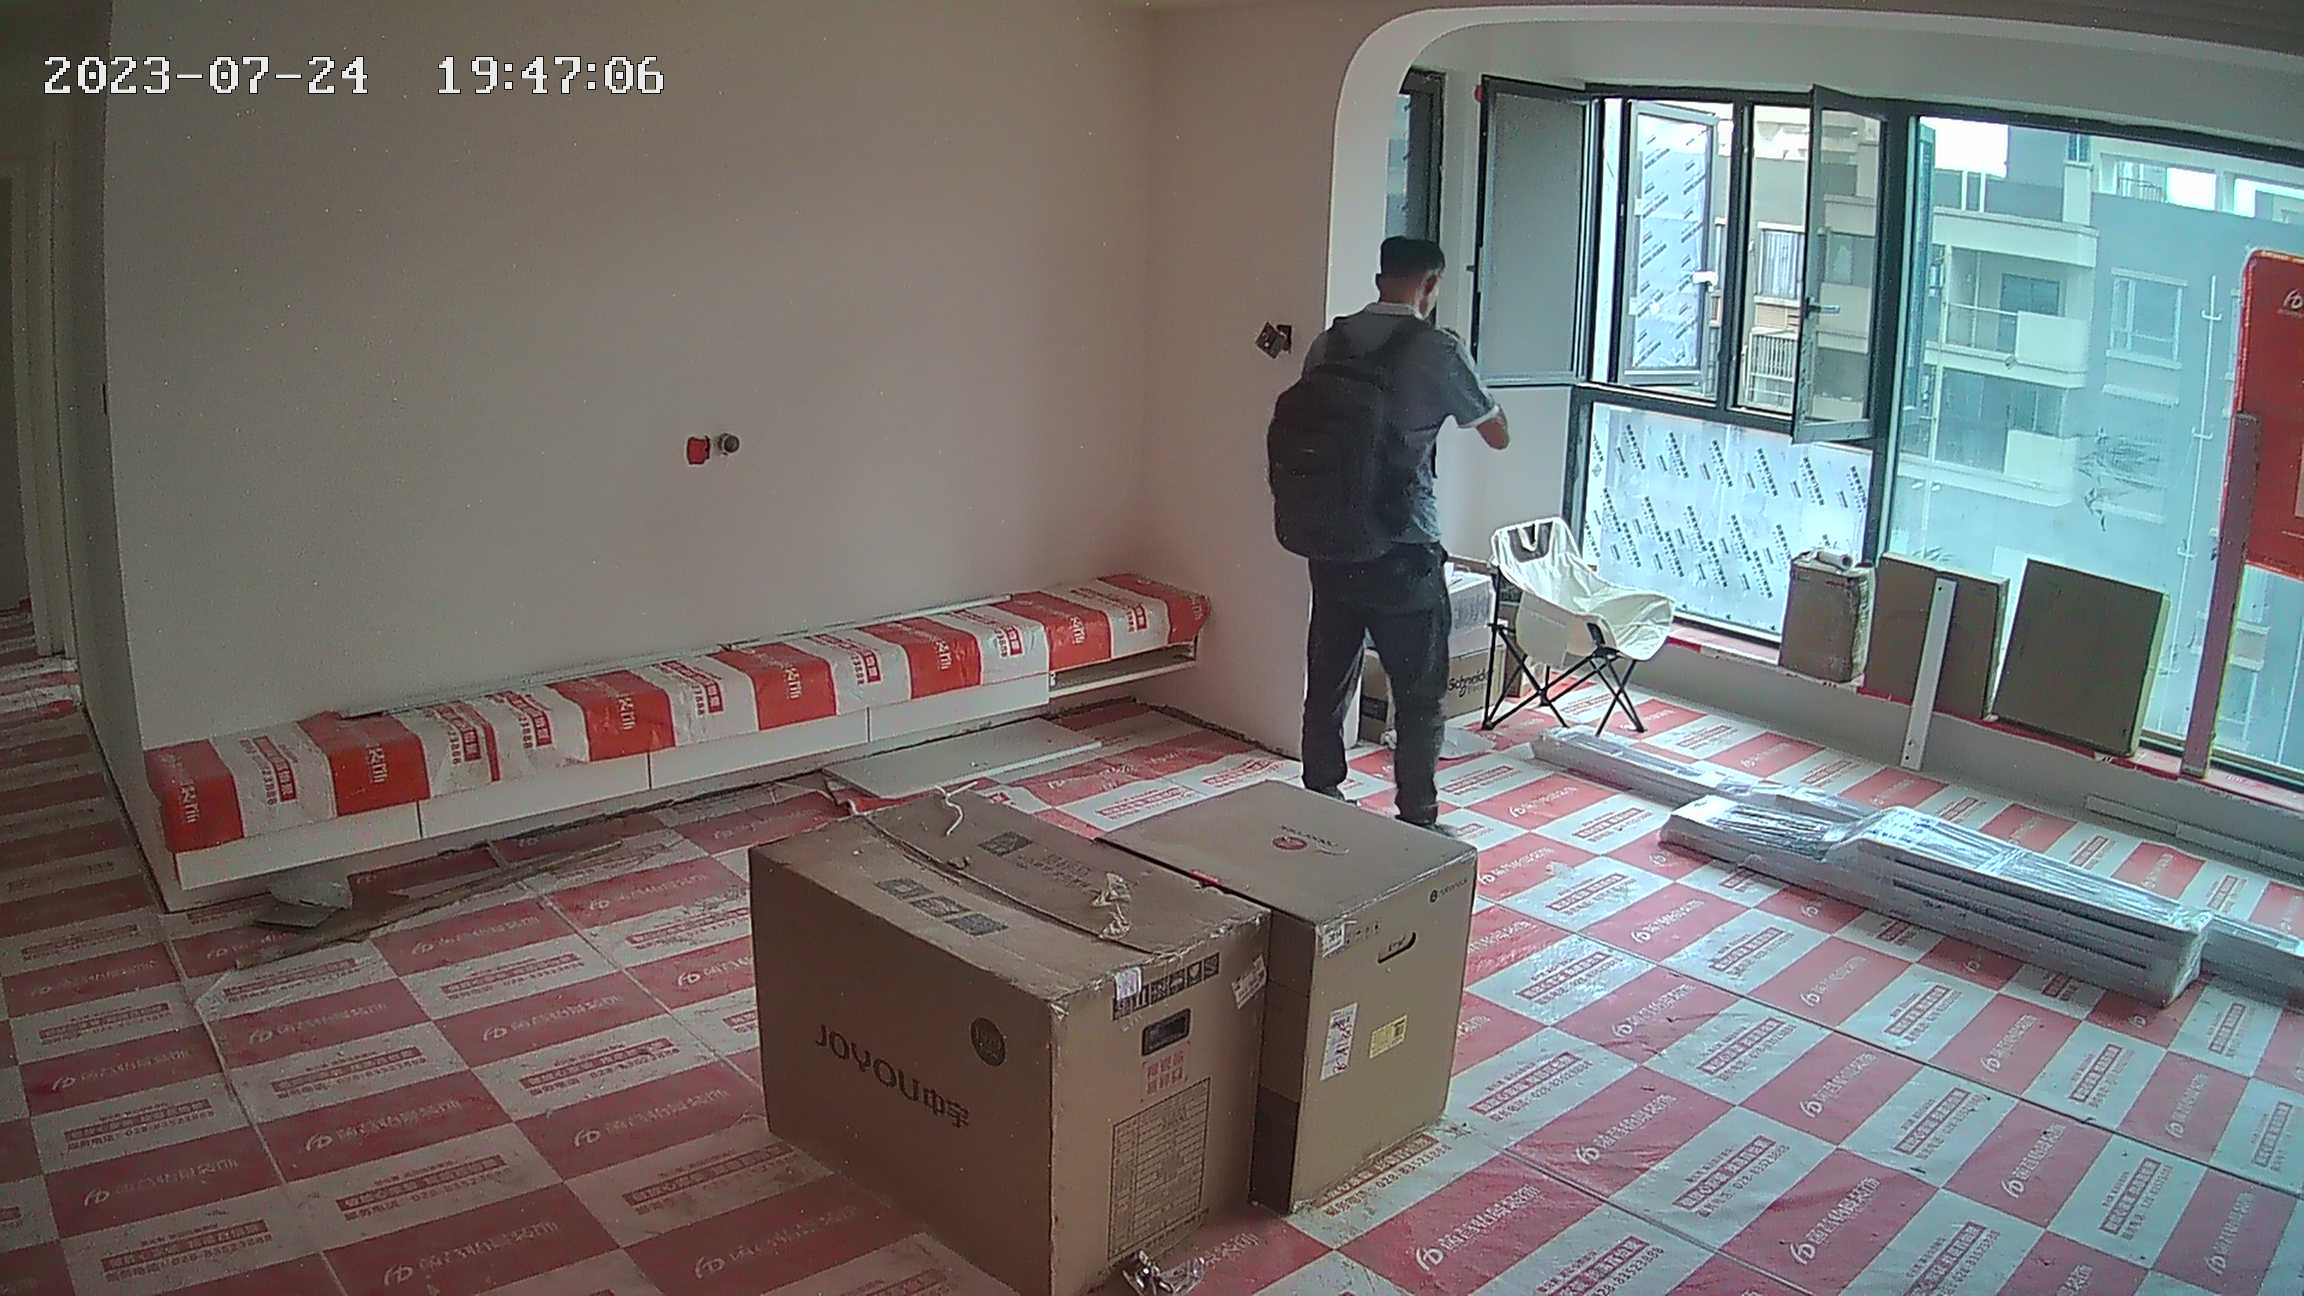people: (1298, 236, 1514, 833)
window: (1583, 97, 2304, 758)
